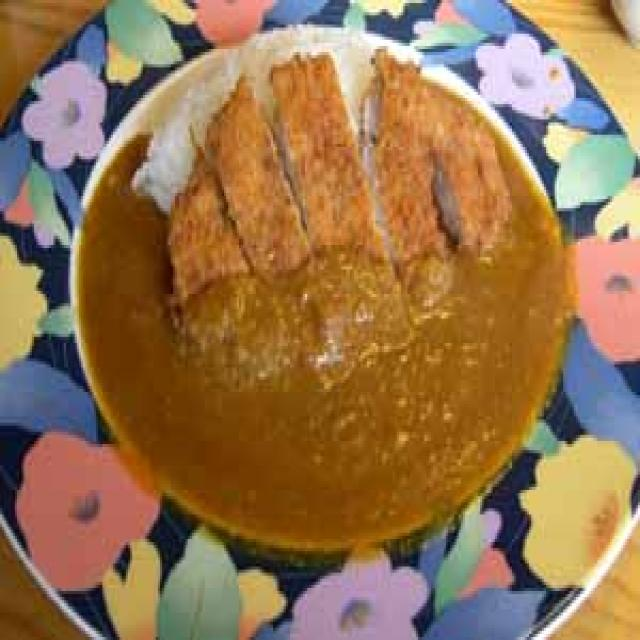猪肉菜式: (41, 12, 584, 588)
